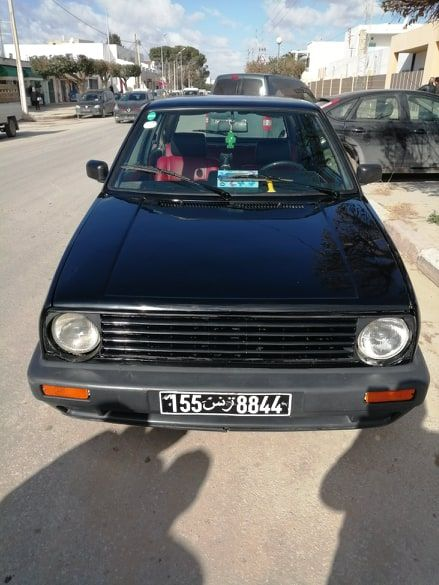LP: (158, 389, 295, 419)
